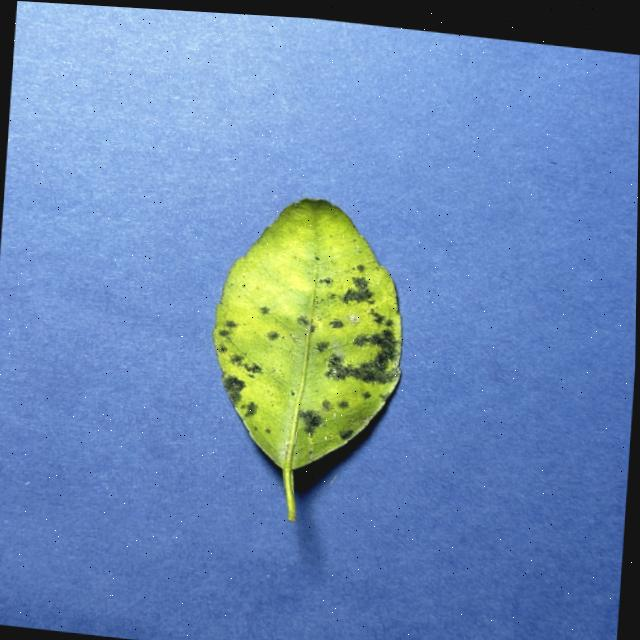sooty_mold: (213, 198, 400, 519)
